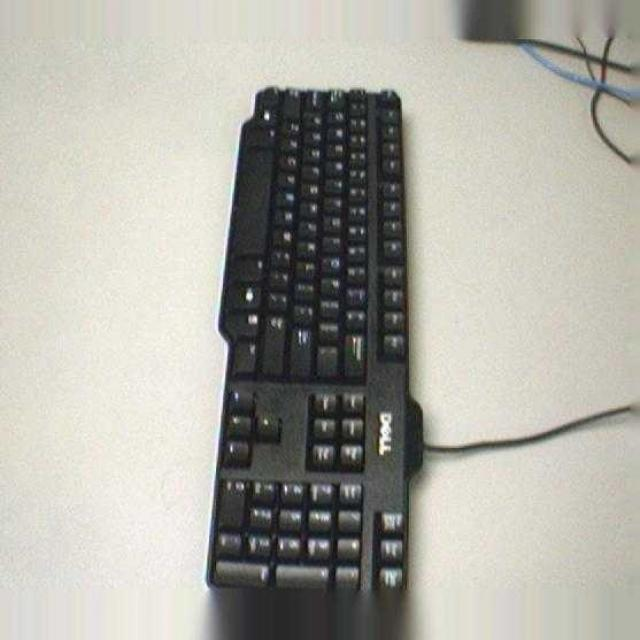keyboard: (203, 82, 412, 594)
